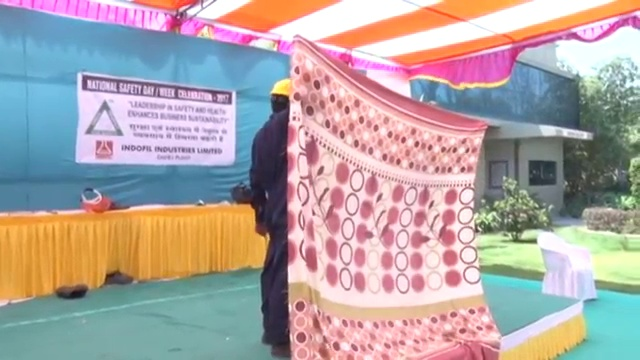helmet: (270, 77, 293, 98)
helmet_on: (268, 77, 291, 116)
person: (248, 77, 295, 360)
